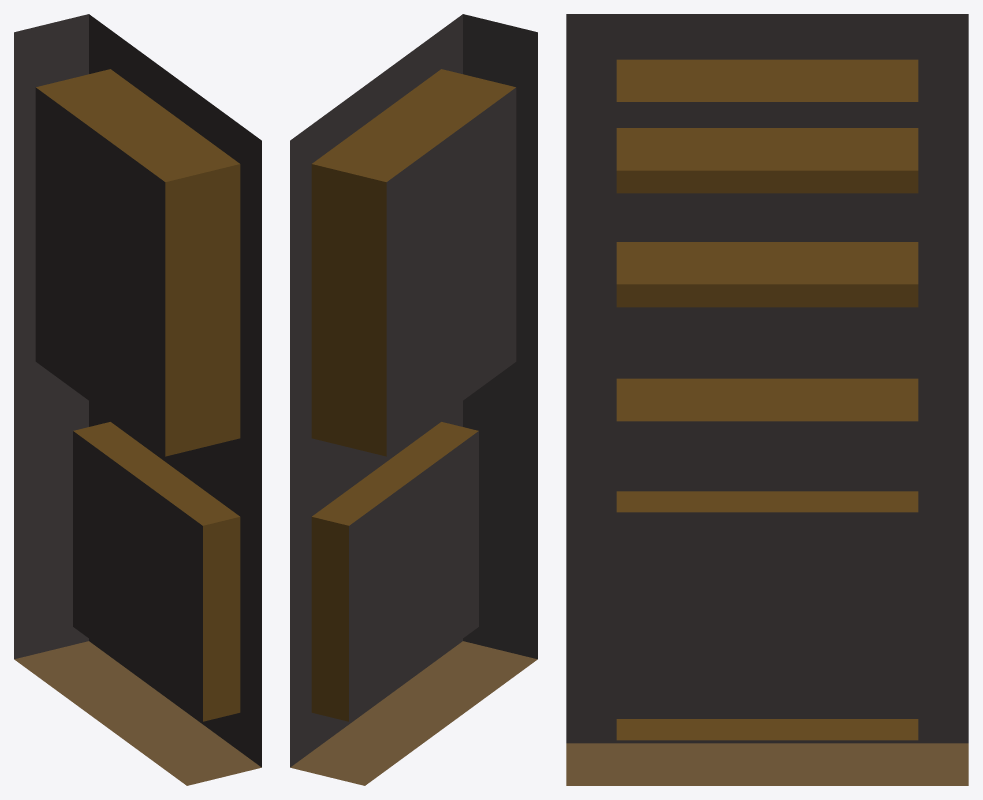
The model's file is obj_shelves_1_0.obj.
3 renders of one model, left to right at view 1: azimuth 30°, elevation 25°; view 2: azimuth 150°, elevation 25°; view 3: azimuth 270°, elevation 25°, orthographic. The views are drawn at different scales.
Size of the model in its own units: 0.25 by 2 by 1.
